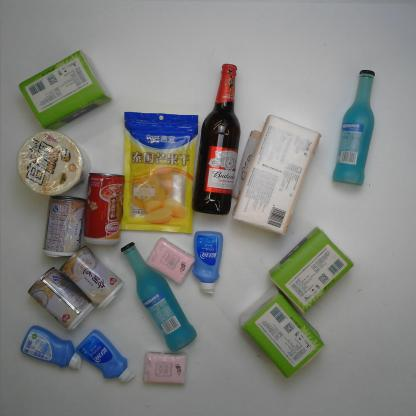Alcohol: (120, 240, 198, 354), (192, 61, 242, 216), (330, 68, 376, 187)
Canned Food: (27, 266, 95, 332), (58, 246, 125, 311), (82, 172, 126, 245), (41, 194, 87, 258)
Dried Fruit: (118, 110, 200, 235)
Instant Noodles: (15, 130, 85, 198)
Personal Hygiene: (76, 328, 136, 384), (20, 325, 82, 371), (191, 230, 224, 294)
Tissue: (230, 113, 323, 236), (237, 284, 325, 380), (268, 225, 355, 316), (18, 49, 113, 132), (146, 236, 196, 286), (142, 350, 188, 385)
